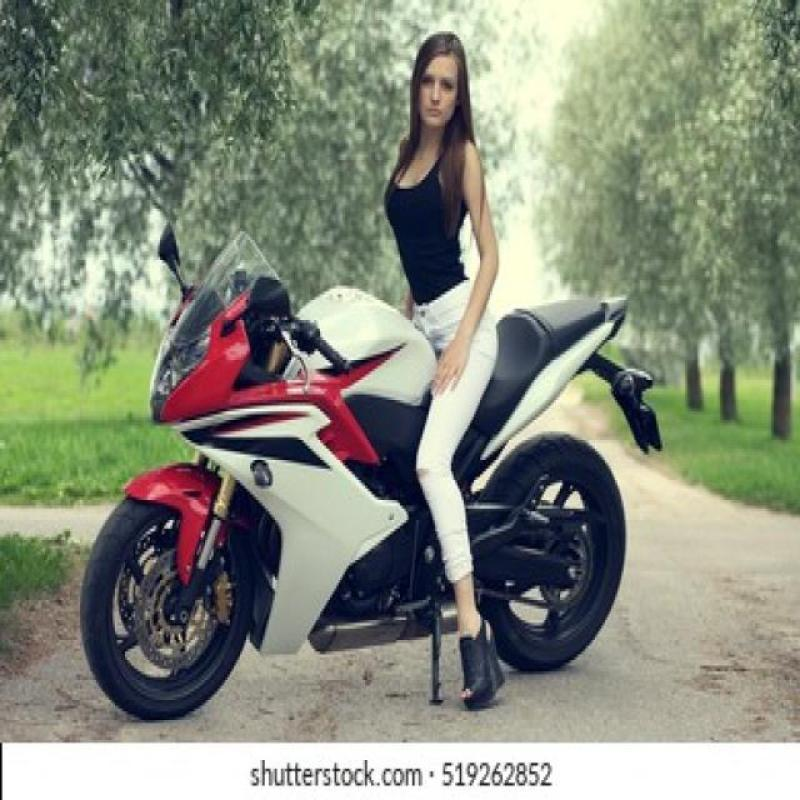nohelmet: (398, 25, 481, 125)
